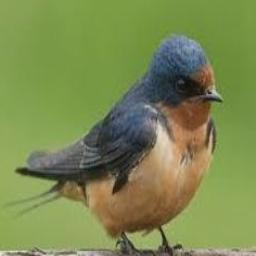Swallow: (4, 33, 223, 252)
